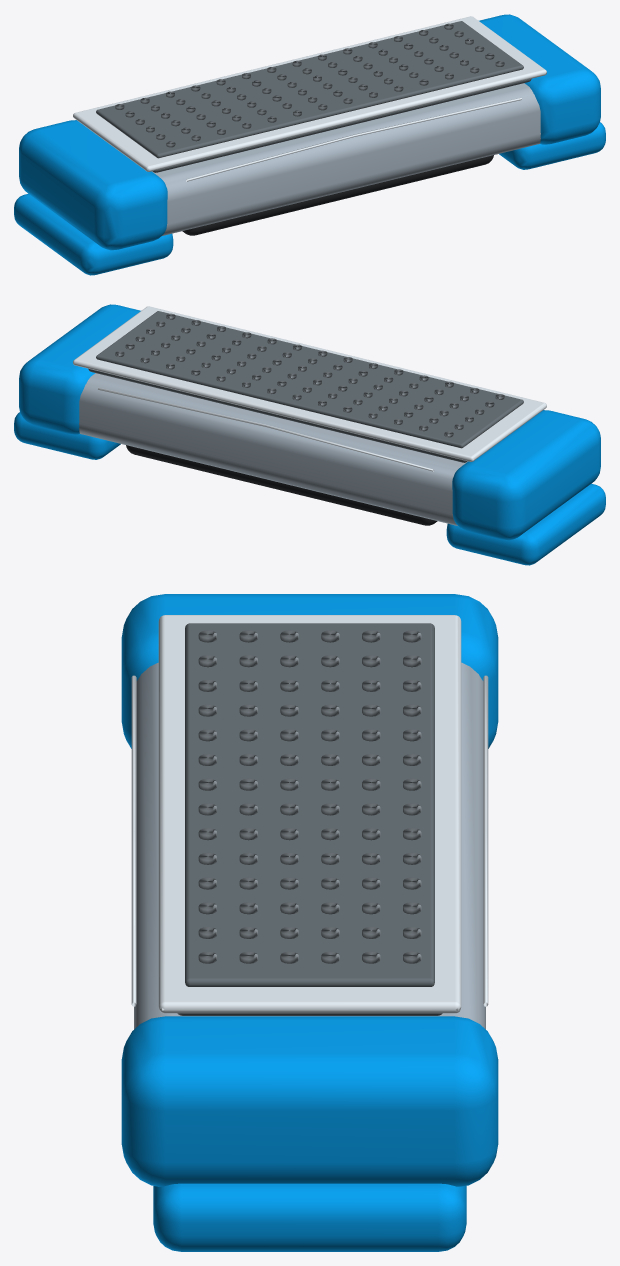
File: Step-Brett_3D.glb
The picture shows the model from 3 angles, top to bottom: view 1: azimuth 30°, elevation 25°; view 2: azimuth 150°, elevation 25°; view 3: azimuth 270°, elevation 25°; orthographic projection. The views are drawn at different scales.
Parts seen in each view (by area): view 1: Step_Brett_3D__web_glossy_blue_step_bench_end_caps_and_feet, Step_Brett_3D__web_satin_grey_step_bench_body_shell, Step_Brett_3D__web_dark_grey_anti_slip_top_mat, Step_Brett_3D__web_light_grey_glossy_edge_highlight_on_step_, Step_Brett_3D__web_raised_dark_grey_anti_slip_step_dots, Step_Brett_3D__web_dark_recessed_underside_step_bench_shadow; view 2: Step_Brett_3D__web_glossy_blue_step_bench_end_caps_and_feet, Step_Brett_3D__web_satin_grey_step_bench_body_shell, Step_Brett_3D__web_dark_grey_anti_slip_top_mat, Step_Brett_3D__web_light_grey_glossy_edge_highlight_on_step_, Step_Brett_3D__web_raised_dark_grey_anti_slip_step_dots, Step_Brett_3D__web_dark_recessed_underside_step_bench_shadow; view 3: Step_Brett_3D__web_glossy_blue_step_bench_end_caps_and_feet, Step_Brett_3D__web_dark_grey_anti_slip_top_mat, Step_Brett_3D__web_light_grey_glossy_edge_highlight_on_step_, Step_Brett_3D__web_raised_dark_grey_anti_slip_step_dots, Step_Brett_3D__web_satin_grey_step_bench_body_shell.
Part boxes in pixels (left/top/right/bottom): Step_Brett_3D__web_glossy_blue_step_bench_end_caps_and_feet: left=14, top=14, right=605, bottom=275; Step_Brett_3D__web_satin_grey_step_bench_body_shell: left=152, top=83, right=540, bottom=235; Step_Brett_3D__web_dark_grey_anti_slip_top_mat: left=96, top=21, right=531, bottom=172; Step_Brett_3D__web_light_grey_glossy_edge_highlight_on_step_: left=73, top=16, right=546, bottom=181; Step_Brett_3D__web_raised_dark_grey_anti_slip_step_dots: left=115, top=23, right=504, bottom=147; Step_Brett_3D__web_dark_recessed_underside_step_bench_shadow: left=182, top=155, right=493, bottom=235; Step_Brett_3D__web_glossy_blue_step_bench_end_caps_and_feet: left=14, top=304, right=605, bottom=565; Step_Brett_3D__web_satin_grey_step_bench_body_shell: left=79, top=373, right=467, bottom=525; Step_Brett_3D__web_dark_grey_anti_slip_top_mat: left=88, top=311, right=523, bottom=462; Step_Brett_3D__web_light_grey_glossy_edge_highlight_on_step_: left=73, top=306, right=546, bottom=471; Step_Brett_3D__web_raised_dark_grey_anti_slip_step_dots: left=115, top=313, right=504, bottom=437; Step_Brett_3D__web_dark_recessed_underside_step_bench_shadow: left=126, top=445, right=437, bottom=525; Step_Brett_3D__web_glossy_blue_step_bench_end_caps_and_feet: left=121, top=594, right=498, bottom=1251; Step_Brett_3D__web_dark_grey_anti_slip_top_mat: left=177, top=623, right=442, bottom=1015; Step_Brett_3D__web_light_grey_glossy_edge_highlight_on_step_: left=131, top=615, right=488, bottom=1013; Step_Brett_3D__web_raised_dark_grey_anti_slip_step_dots: left=198, top=630, right=421, bottom=963; Step_Brett_3D__web_satin_grey_step_bench_body_shell: left=134, top=662, right=485, bottom=1029.
Bounding box in the file's own units: 1.72 × 0.3305 × 0.535.
